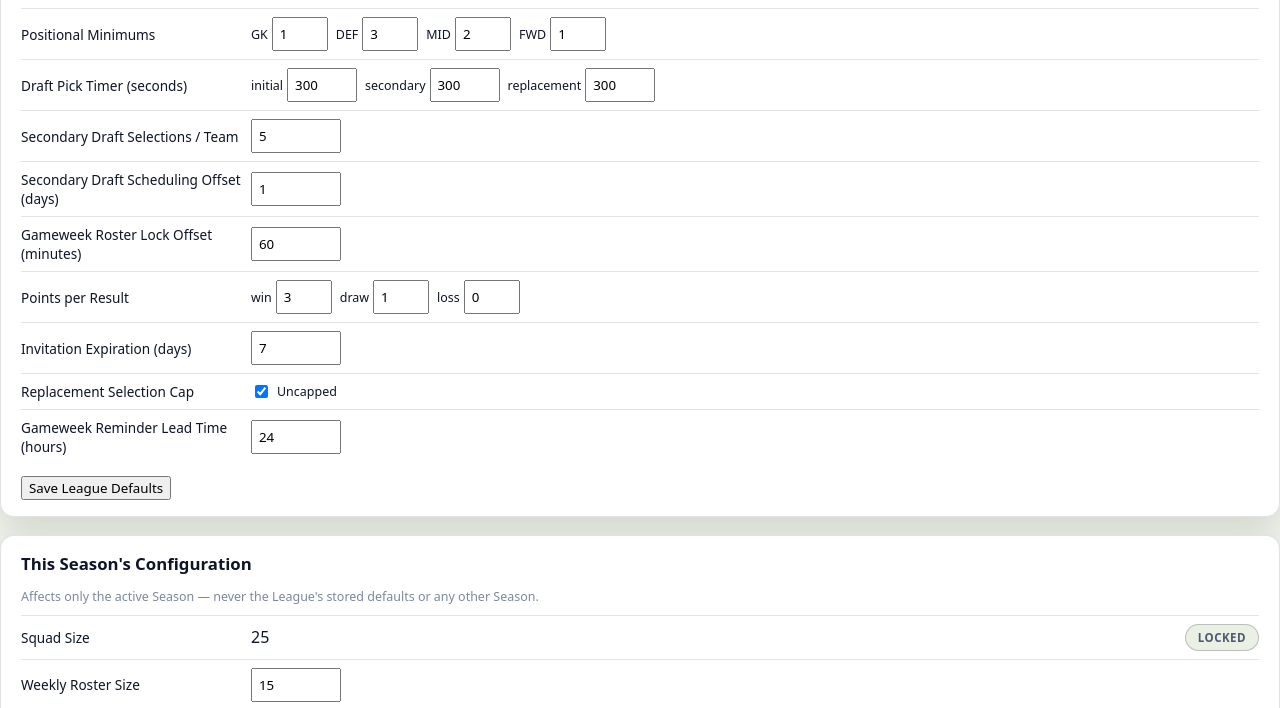
Test case: LeagueSettingsScreen › confirms which fields actually changed on save (UIR-200)
(page scrolled)
Step 1. Replace the text in the number field named "Invitation Expiration Days" with "10" → (296, 348), box [251, 332, 341, 366]
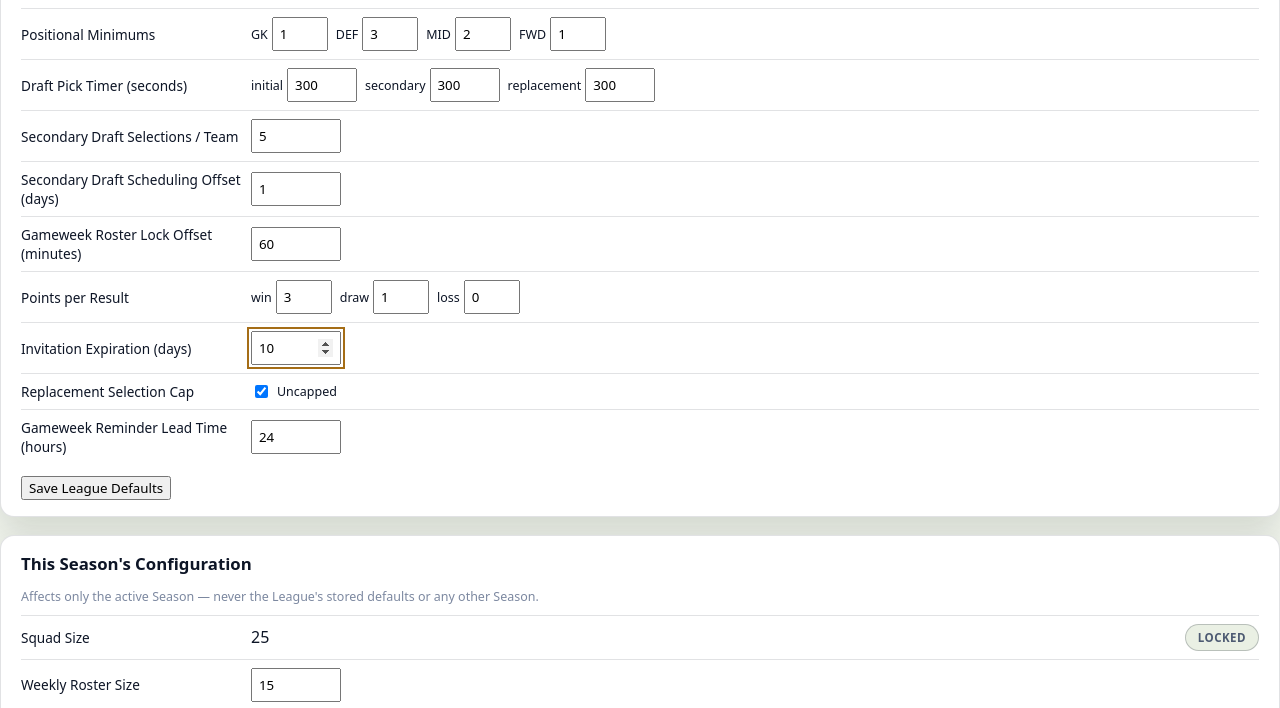
Step 2. Click the button "Save League Defaults" → (96, 488), box [21, 476, 171, 500]
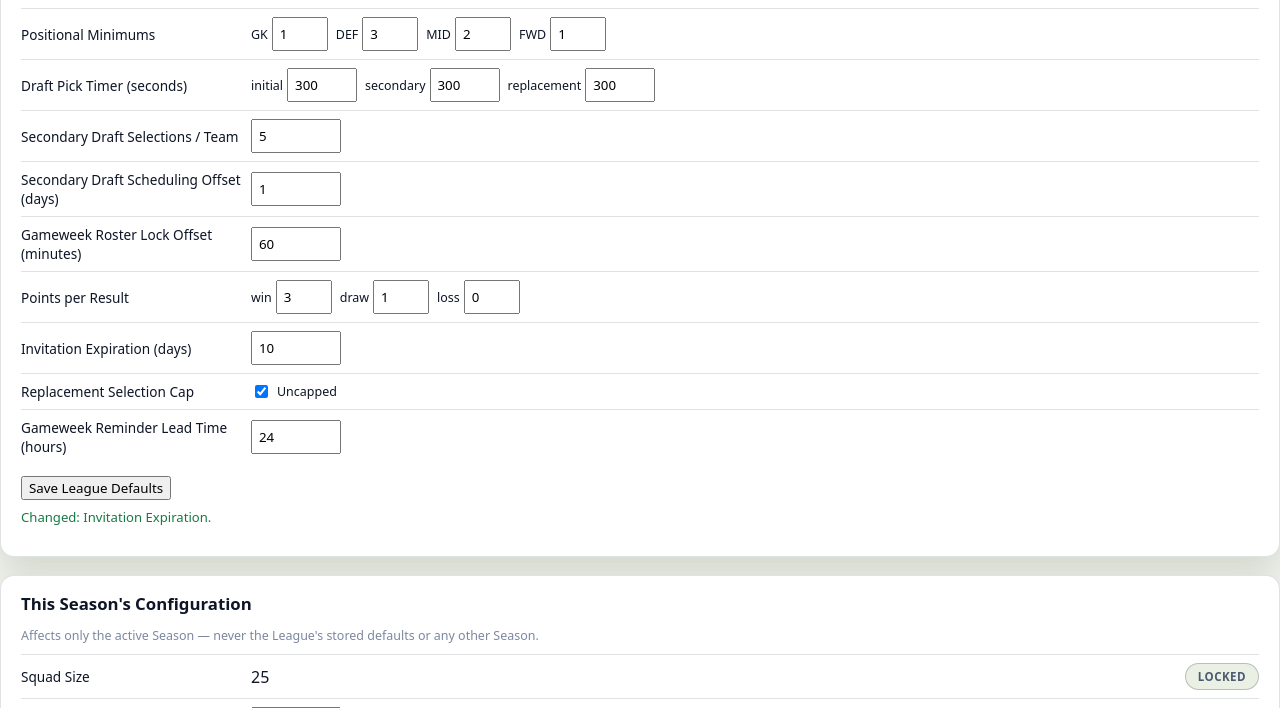
Check: the text "Changed: Invitation Expiration." is shown, box [21, 508, 211, 526]
